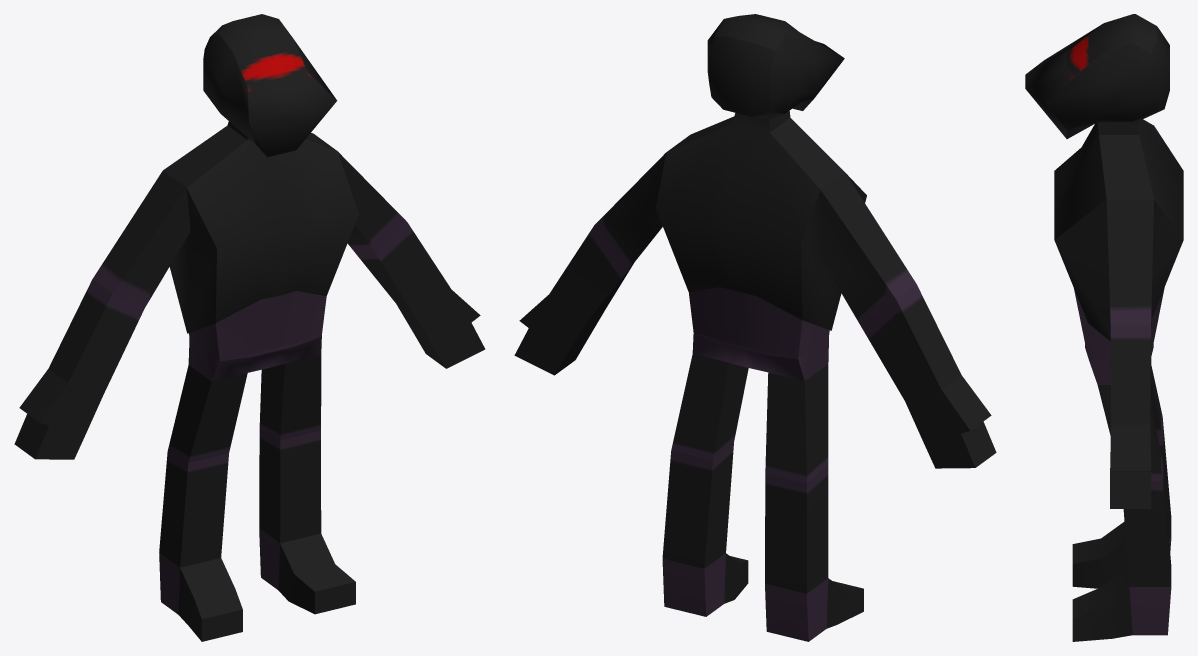
File: enemy.fbx
3 renders of one model, left to right at view 1: azimuth 30°, elevation 25°; view 2: azimuth 150°, elevation 25°; view 3: azimuth 270°, elevation 25°, orthographic. The views are drawn at different scales.
Visible parts, largest first — view 1: Upper6; view 2: Upper6; view 3: Upper6.
Part boxes in pixels (box(x1,y1,x2,y2)): Upper6: box(14, 14, 485, 641); Upper6: box(514, 14, 996, 641); Upper6: box(1025, 14, 1183, 641).
Size of the model in its own units: 4.03 by 4.98 by 1.22.
1 material, 1 textured.
